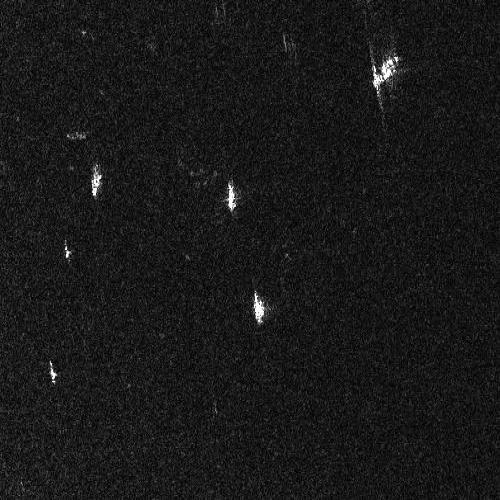ship: (372, 54, 400, 90), (252, 290, 265, 326), (90, 163, 102, 198), (227, 181, 237, 212), (48, 359, 56, 386), (64, 242, 71, 260)
